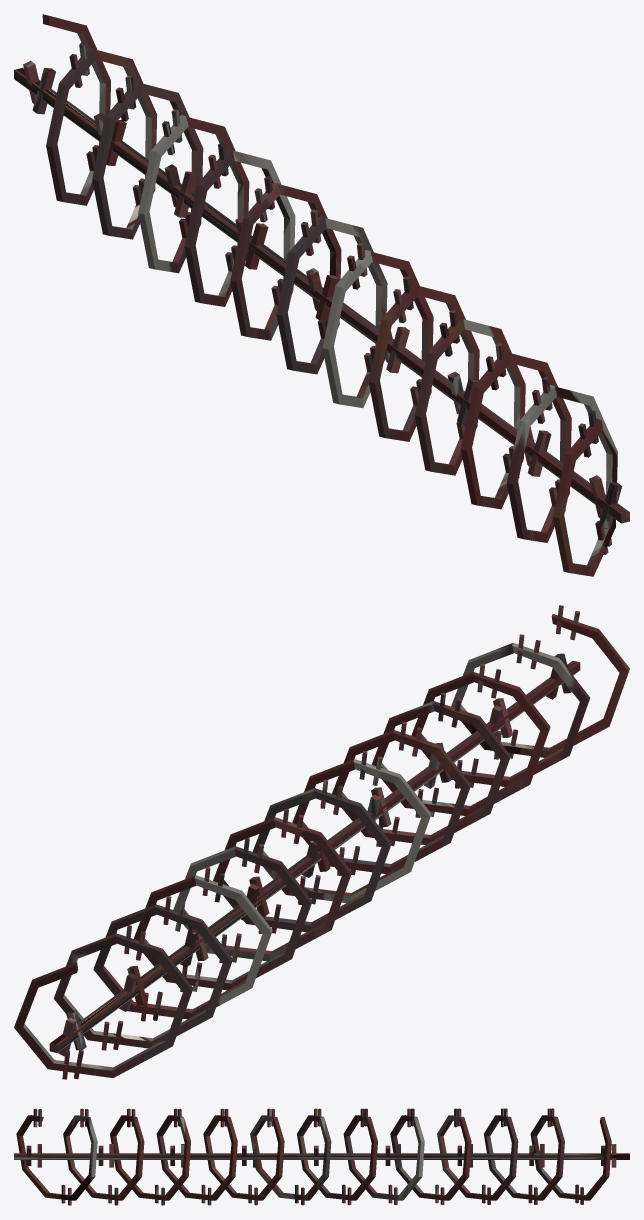
Rendered from barbed wire.fbx.
The picture shows the model from 3 angles, top to bottom: view 1: azimuth 30°, elevation 25°; view 2: azimuth 150°, elevation 25°; view 3: azimuth 270°, elevation 25°; orthographic projection. The views are drawn at different scales.
Parts seen in each view (by area): view 1: barbed wire; view 2: barbed wire; view 3: barbed wire.
Part boxes in pixels (bbox=[...]): barbed wire: bbox=[14, 14, 629, 576]; barbed wire: bbox=[14, 605, 629, 1079]; barbed wire: bbox=[14, 1108, 629, 1205].
Bounding box in the file's own units: 269 × 325 × 2087.
